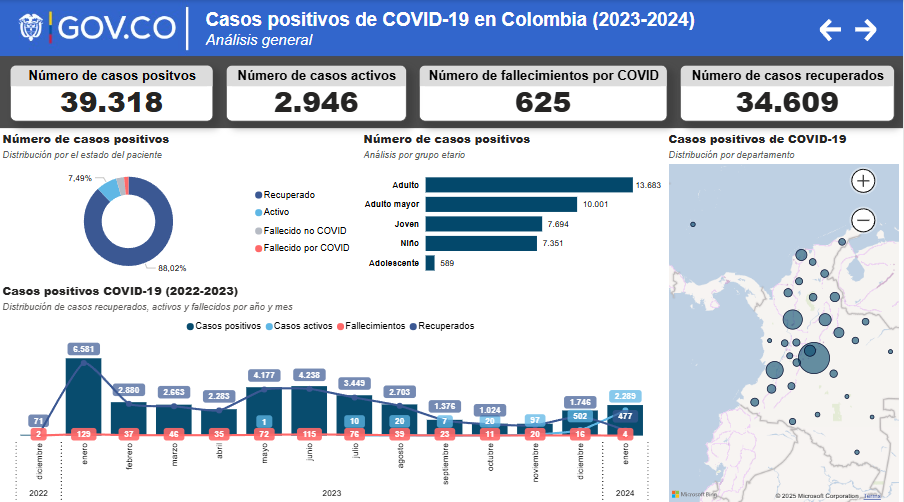

This screenshot's page, from the dashboard's own definition file:
{"tool":"powerbi","page":{"name":"Resumen","canvas":[1280,720],"ordinal":1},"visuals":[{"type":"map","title":"Casos positivos de COVID-19","fields":{"Size":["Medidas.Numero de casos positvos"],"Y":["Municipio.Latitud_Departamento"],"X":["Municipio.Longitud_Departamento"]},"box":[944,184,336,536],"z":0},{"type":"card","title":"Número de casos positvos","fields":{"Values":["Medidas.Número de casos"]},"box":[16.2,91.5,288,80],"z":1000},{"type":"donutChart","title":"Número de casos positivos","fields":{"Category":["Casos.Estado"],"Y":["Medidas.Numero de casos positvos"]},"box":[0,184,512,216],"z":2000},{"type":"clusteredBarChart","title":"Número de casos positivos","fields":{"Category":["Casos.Clasifiacion_Edad"],"Y":["Medidas.Numero de casos positvos"]},"box":[512,184,432,216],"z":3000},{"type":"card","title":"Número de casos recuperados","fields":{"Values":["Medidas.Numero de recuperados"]},"box":[965,91.5,304,80],"z":4000},{"type":"card","title":"Número de fallecimientos por COVID","fields":{"Values":["Medidas.Numero de fallecimientos"]},"box":[595.4,91.5,352,80],"z":5000},{"type":"lineStackedColumnComboChart","title":"Casos positivos COVID-19 (2022-2023)","fields":{"Category":["Calendario.Date.Variación.Jerarquía de fechas.Año","Calendario.Date.Variación.Jerarquía de fechas.Mes","Calendario.Date.Variación.Jerarquía de fechas.Día"],"Y":["Medidas.Numero de casos positvos"],"Y2":["Medidas.Numero de casos activos","Medidas.Numero de fallecimientos","Medidas.Numero de recuperados"]},"box":[0,400,944,320],"z":6000},{"type":"textbox","box":[288,8,928,72],"z":7000},{"type":"card","title":"Número de casos activos","fields":{"Values":["Medidas.Numero de casos activos"]},"box":[321.8,91.5,256,80],"z":8000},{"type":"actionButton","box":[1160,22.7,48,40],"z":9000},{"type":"actionButton","box":[1208,22.7,48,40],"z":10000}]}

Visuals, with their boxes in screenshot pixels (x1, y1, x2, y2), scaled from the page's 1280x720 canvas onto the 904x502 screenshot:
"Casos positivos de COVID-19" map: region(667, 128, 903, 501)
"Número de casos positvos" card: region(11, 64, 215, 120)
"Número de casos positivos" donutChart: region(0, 128, 362, 279)
"Número de casos positivos" clusteredBarChart: region(362, 128, 667, 279)
"Número de casos recuperados" card: region(682, 64, 896, 120)
"Número de fallecimientos por COVID" card: region(421, 64, 669, 120)
"Casos positivos COVID-19 (2022-2023)" lineStackedColumnComboChart: region(0, 279, 667, 501)
textbox: region(203, 6, 859, 56)
"Número de casos activos" card: region(227, 64, 408, 120)
actionButton: region(819, 16, 853, 44)
actionButton: region(853, 16, 887, 44)
